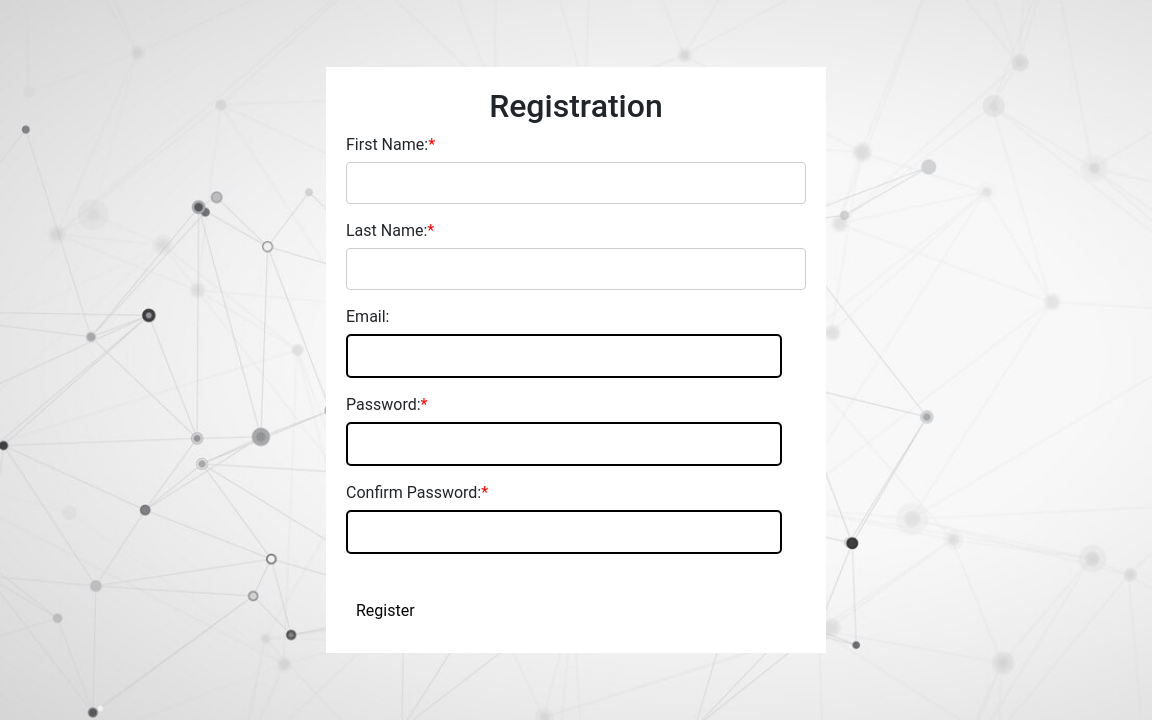
it: Registration component › validates last name input
Type "B" into the field labelled "Last Name:".
click(576, 269); type("B")  # box [346,248,806,290]
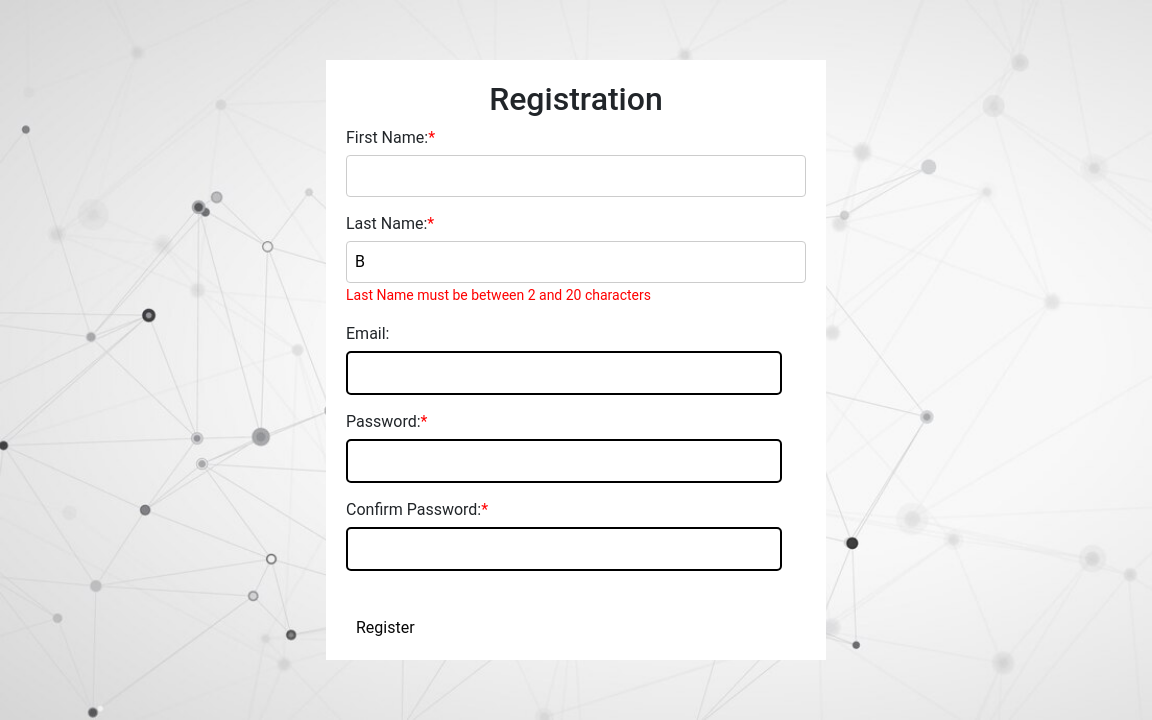
Result: the text "Last Name must be between 2 and 20 characters" is shown at [346,287,651,303]
